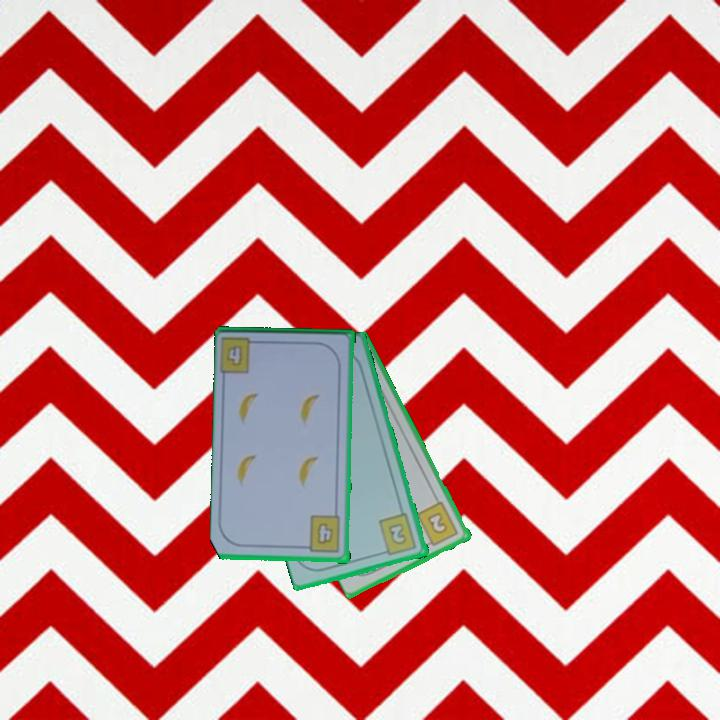2b: (414, 498, 461, 550), (376, 510, 420, 559)
4b: (219, 334, 264, 377), (300, 513, 344, 556)
